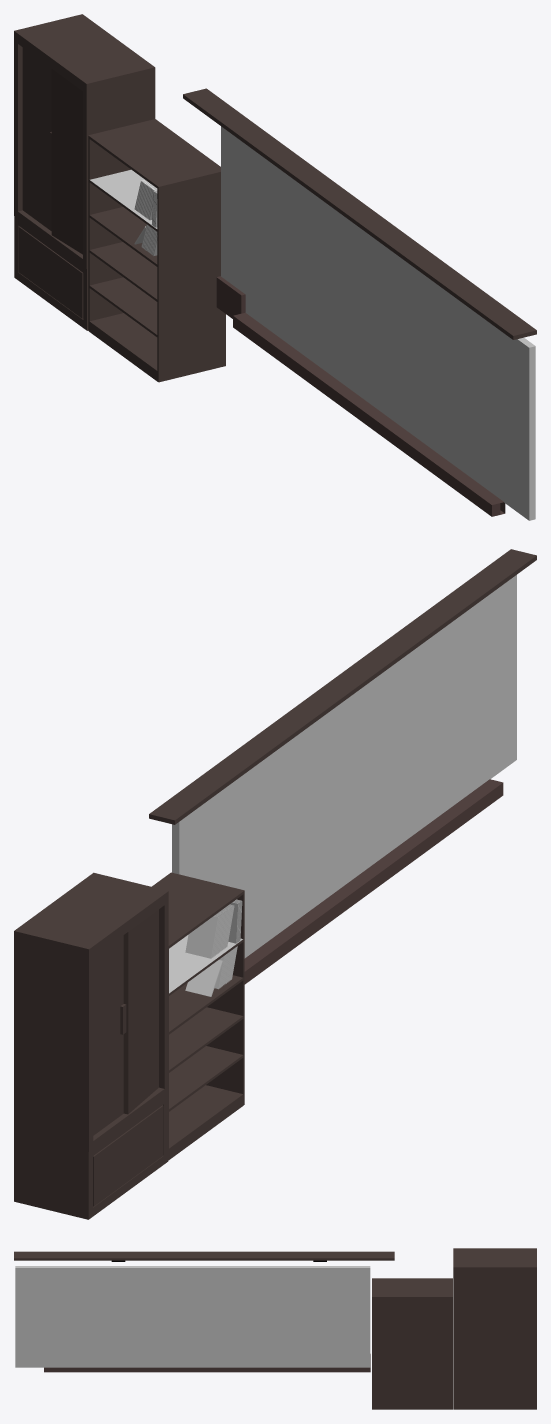
Rendered from wall_desks.fbx.
The picture shows the model from 3 angles, top to bottom: view 1: azimuth 30°, elevation 25°; view 2: azimuth 150°, elevation 25°; view 3: azimuth 270°, elevation 25°; orthographic projection. The views are drawn at different scales.
Parts seen in each view (by area): view 1: pCube74, pCube110, polySurface8, pCube98; view 2: pCube74, polySurface8, pCube110, pCube98; view 3: pCube74, polySurface8, pCube110, pCube98.
Part boxes in pixels (x1,y1,x2,y2): pCube74: (216, 126, 535, 520); pCube110: (88, 119, 225, 382); polySurface8: (14, 14, 155, 330); pCube98: (183, 88, 536, 339); pCube74: (172, 575, 516, 984); polySurface8: (14, 872, 168, 1219); pCube110: (152, 872, 244, 1160); pCube98: (149, 549, 536, 824); pCube74: (15, 1266, 370, 1372); polySurface8: (453, 1248, 536, 1409); pCube110: (372, 1278, 452, 1409); pCube98: (14, 1251, 394, 1261).
Size of the model in its own units: 20.48 by 74.72 by 234.
